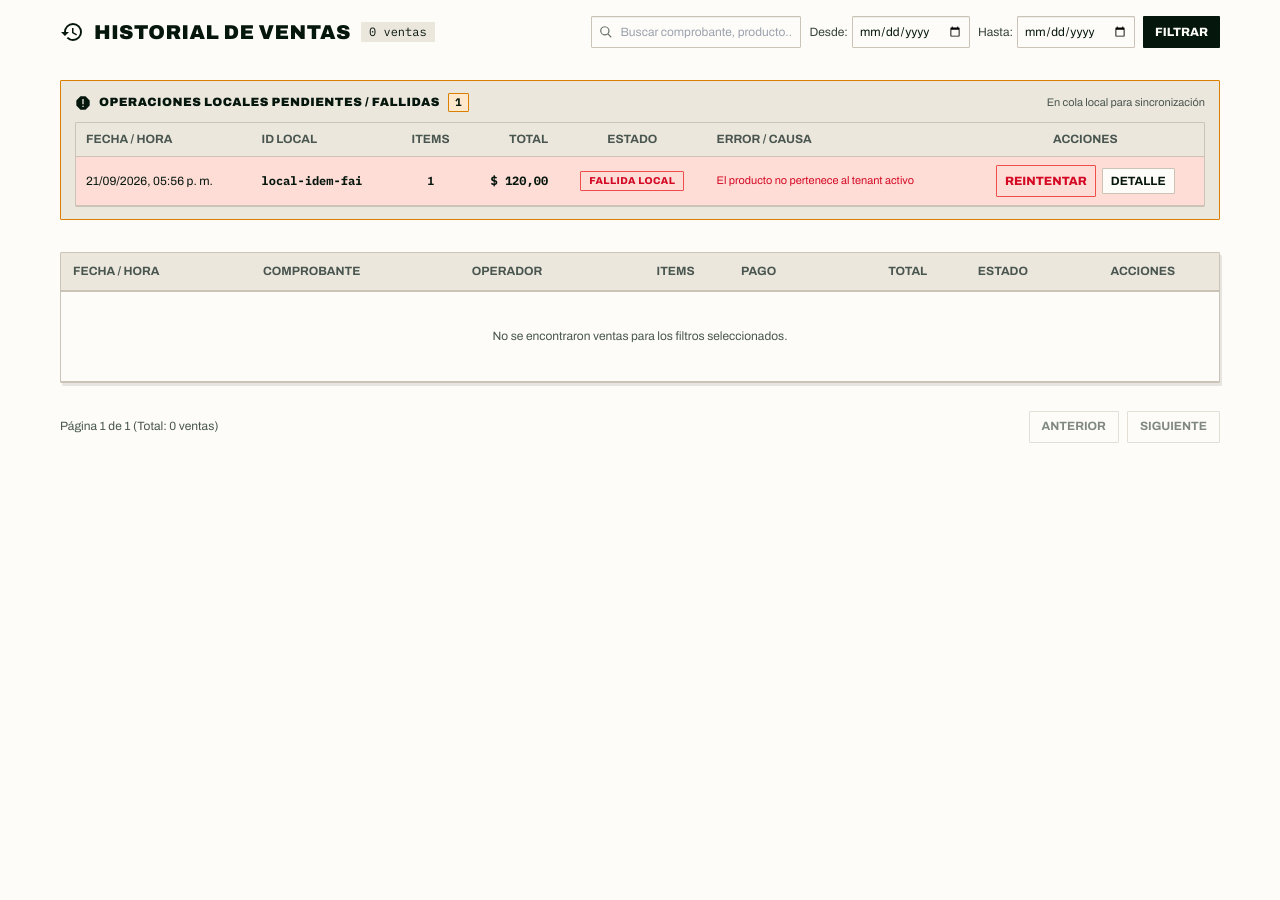
it: SalesHistoryScreen › displays error details and allows retry from inside the sale detail modal for FAILED sale
Check: the text "FALLIDA LOCAL" is shown, box [580,171,684,191]
Click the button with aria-label "Ver detalle de venta" at point(1138, 181), box [1102,168,1175,194]
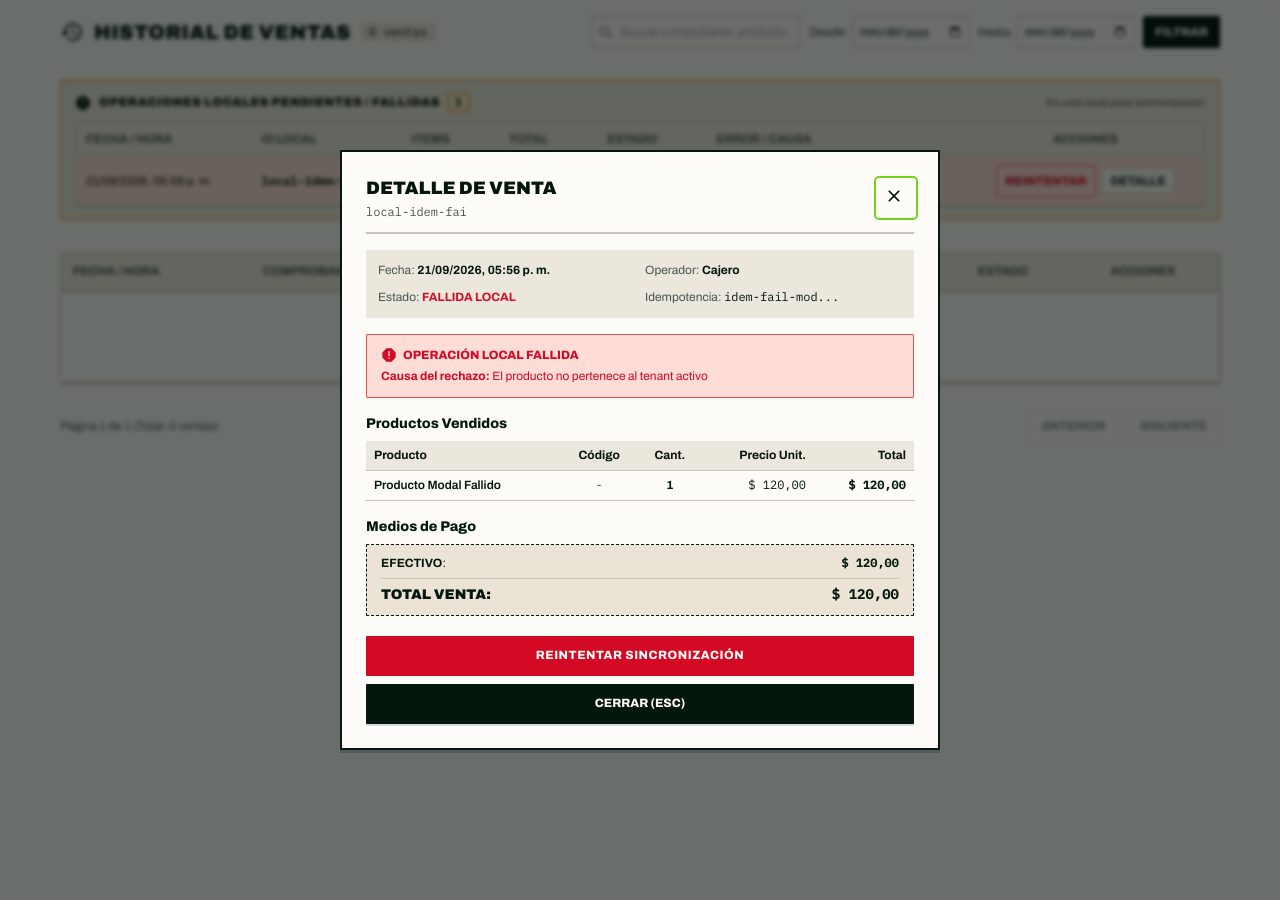
Check: the heading "DETALLE DE VENTA" is shown, box [366,176,557,202]
Check: the text "OPERACIÓN LOCAL FALLIDA" is shown, box [403,347,579,364]
Check: the text "Causa del rechazo:" is shown, box [381,369,490,383]
Click the button with aria-label "Reintentar sincronización de comprobante" at point(640, 656), box [366,636,914,676]
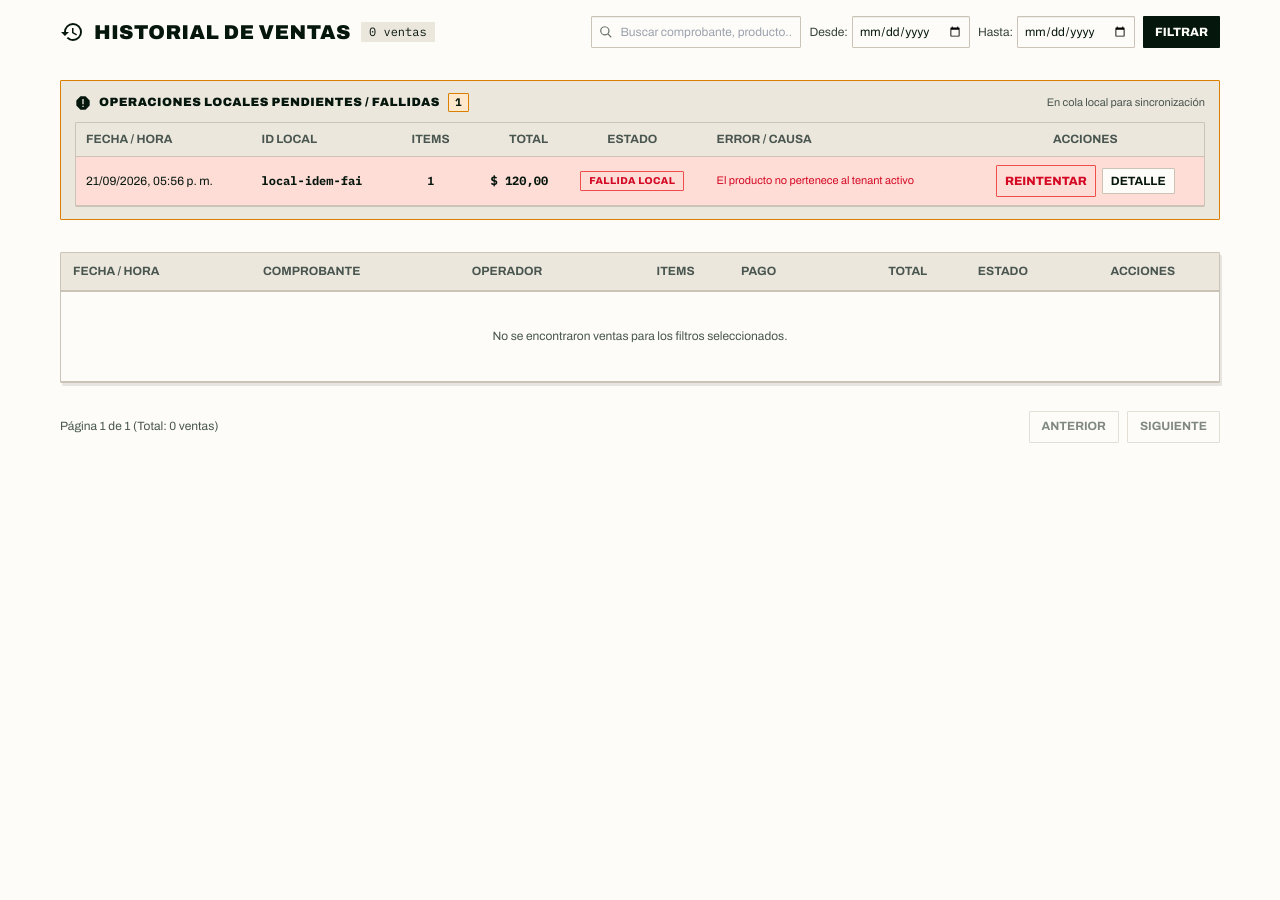
Check: the heading "DETALLE DE VENTA" is gone
